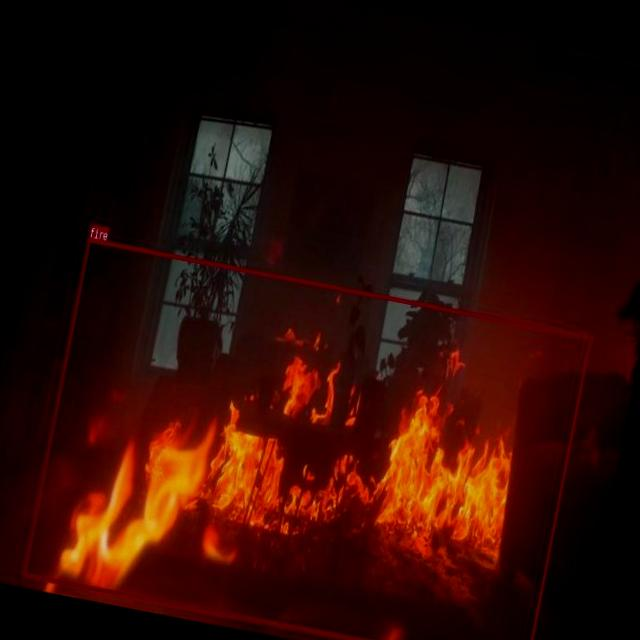fire: (23, 237, 592, 640)
